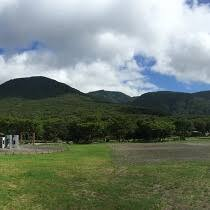field: (3, 143, 209, 210)
mountain: (1, 75, 209, 141)
sky: (2, 1, 207, 83)
